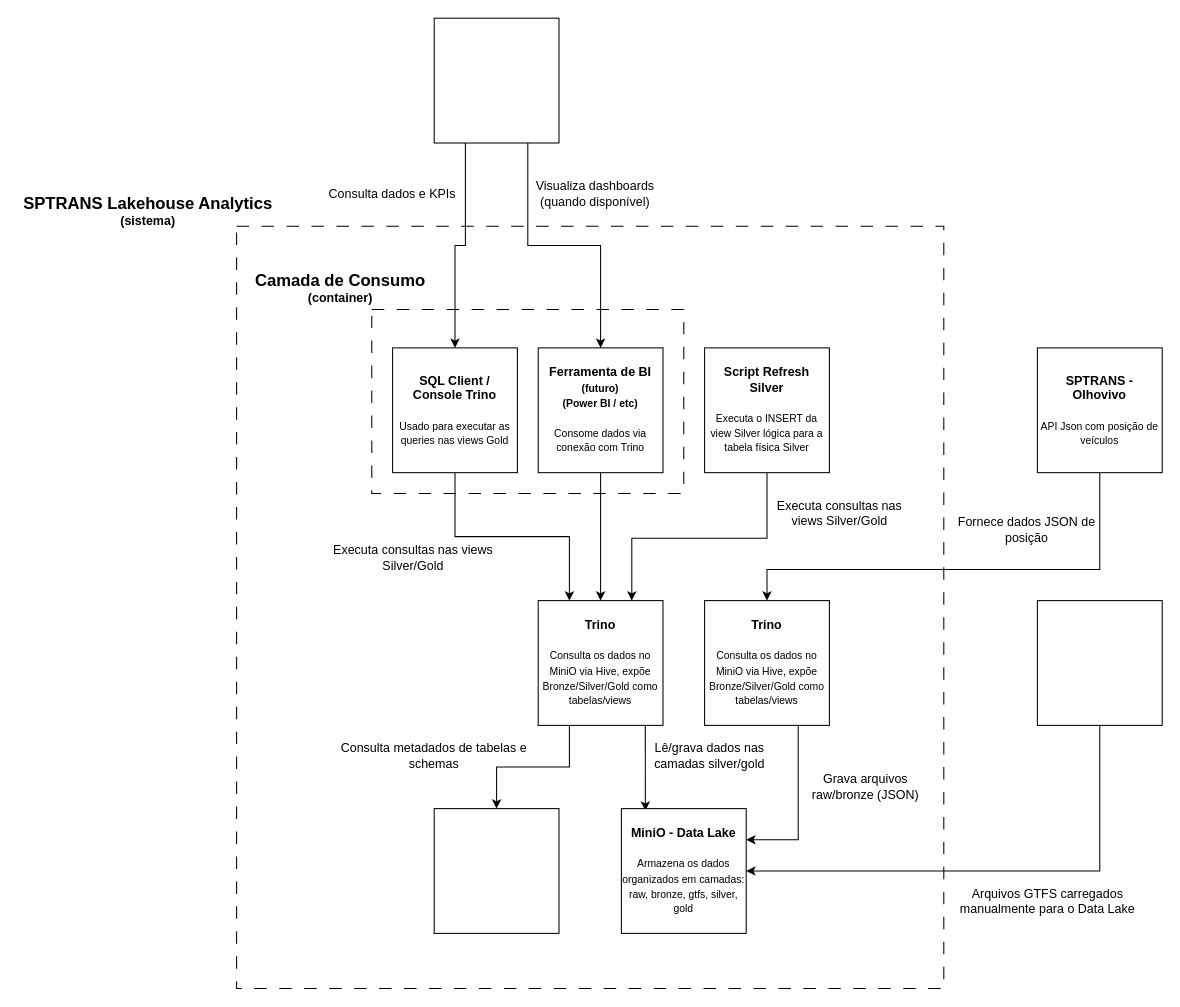
This 1180x1007 diagram has some shape labels left out. The box of each missing label's shape, as (x1, y1, x2, y2) in pixels:
Hive Metastore Catálogo de schemas e tabelas lidos pelo Trino: (433, 808, 559, 933)
SPTRANS - Aquivos GTFS Arquivos GTFS com rotas estáticas: (1036, 600, 1162, 725)
Usuário do ambiente analítico: (433, 17, 559, 143)
